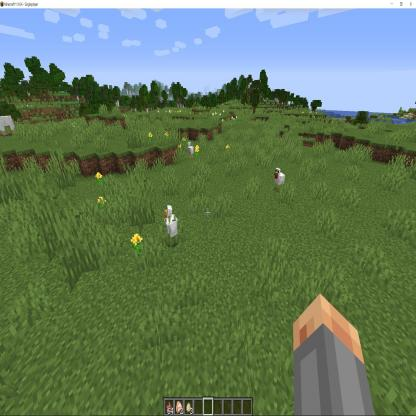minecraft-pigs: (164, 203, 180, 246), (272, 164, 286, 198), (188, 140, 197, 160)
